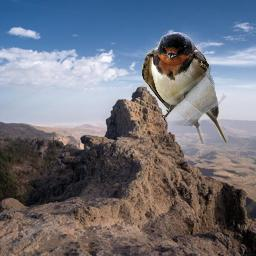Swallow: (142, 32, 228, 144)
